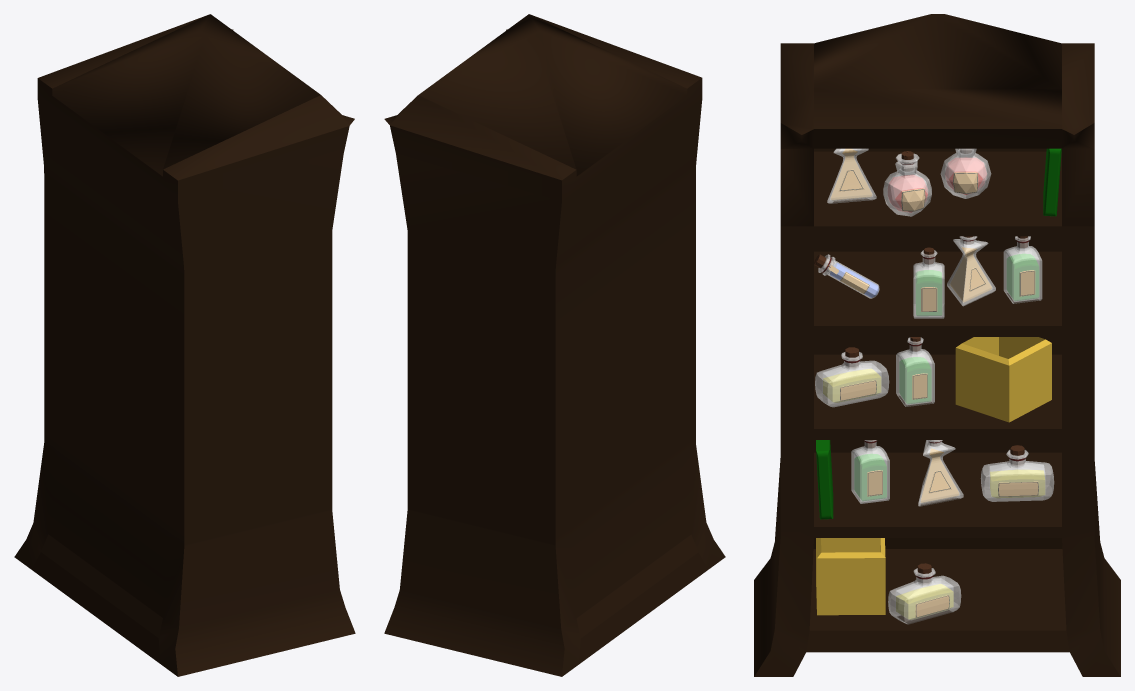
File: шкаф 3.fbx
3 views of the same model, side by side, from view 1: azimuth 30°, elevation 25°; view 2: azimuth 150°, elevation 25°; view 3: azimuth 270°, elevation 25° (orthographic). The views are drawn at different scales.
Parts seen in each view (by area): view 1: Cube; view 2: Cube; view 3: Cube, Куб.006, Куб.001, жидкость.002, жидкость.001, жидкость.003, жижа.008, жижа.003, нитка.001, жижа.002, жижа.004, жижа.005 (+6 smaller).
Part boxes in pixels (x1,y1,x2,y2): Cube: (14,14,355,676); Cube: (384,14,725,676); Cube: (754,14,1120,676); Куб.006: (955,337,1051,422); Куб.001: (816,538,885,615); жидкость.002: (980,445,1054,501); жидкость.001: (815,347,889,407); жидкость.003: (888,563,961,624); жижа.008: (1003,236,1042,303); жижа.003: (896,337,934,406); нитка.001: (883,151,931,216); жижа.002: (851,440,889,503); жижа.004: (947,236,995,306); жижа.005: (913,247,944,318).
Size of the model in its own units: 269 by 721 by 384.
